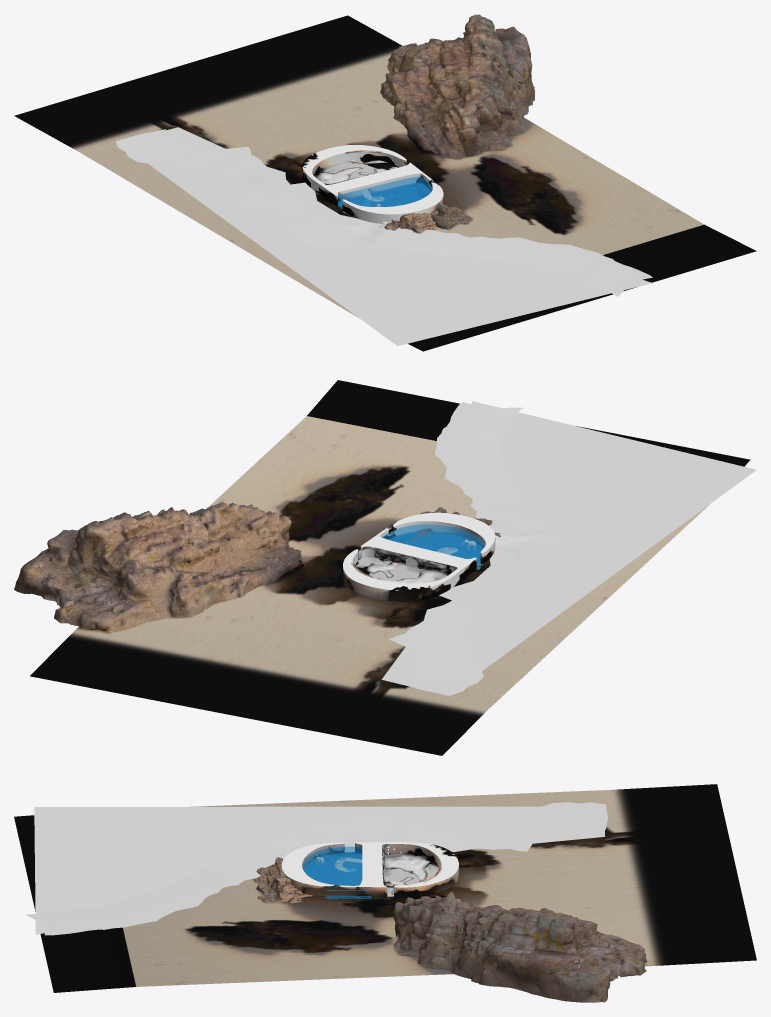
The picture shows the model from 3 angles, top to bottom: view 1: azimuth 30°, elevation 25°; view 2: azimuth 150°, elevation 25°; view 3: azimuth 270°, elevation 25°; orthographic projection. The views are drawn at different scales.
Visible parts, largest first — view 1: sand, water-scene-ext-tile, Aset_nature_rock_L_vfgkajyga_LOD0, Plane.003, logo, water, water.001, mousse, Aset_nature_rock_L_vfgkajyga_LOD011, Aset_nature_rock_L_vfgkajyga_LOD010, ground_mousse; view 2: sand, water-scene-ext-tile, Aset_nature_rock_L_vfgkajyga_LOD0, Plane.003, logo, water, mousse, water.001, ground_mousse; view 3: sand, water-scene-ext-tile, Aset_nature_rock_L_vfgkajyga_LOD0, Plane.003, logo, water, water.001, mousse, Aset_nature_rock_L_vfgkajyga_LOD010, ground_mousse, Aset_nature_rock_L_vfgkajyga_LOD011.
Part boxes in pixels (left/top/right/bottom): sand: left=14, top=15, right=756, bottom=351; water-scene-ext-tile: left=148, top=127, right=652, bottom=345; Aset_nature_rock_L_vfgkajyga_LOD0: left=380, top=14, right=534, bottom=159; Plane.003: left=115, top=129, right=652, bottom=296; logo: left=302, top=145, right=443, bottom=224; water: left=338, top=176, right=440, bottom=206; water.001: left=338, top=182, right=430, bottom=206; mousse: left=314, top=151, right=406, bottom=184; Aset_nature_rock_L_vfgkajyga_LOD011: left=384, top=211, right=437, bottom=233; Aset_nature_rock_L_vfgkajyga_LOD010: left=415, top=198, right=472, bottom=229; ground_mousse: left=316, top=160, right=397, bottom=179; sand: left=30, top=380, right=750, bottom=755; water-scene-ext-tile: left=381, top=401, right=756, bottom=695; Aset_nature_rock_L_vfgkajyga_LOD0: left=14, top=502, right=303, bottom=632; Plane.003: left=389, top=402, right=579, bottom=695; logo: left=343, top=512, right=495, bottom=601; water: left=382, top=524, right=485, bottom=558; mousse: left=351, top=546, right=455, bottom=583; water.001: left=389, top=531, right=482, bottom=564; ground_mousse: left=355, top=557, right=447, bottom=580; sand: left=14, top=784, right=756, bottom=992; water-scene-ext-tile: left=34, top=806, right=604, bottom=934; Aset_nature_rock_L_vfgkajyga_LOD0: left=393, top=892, right=647, bottom=1002; Plane.003: left=25, top=802, right=607, bottom=935; logo: left=281, top=842, right=458, bottom=897; water: left=302, top=846, right=370, bottom=890; water.001: left=303, top=852, right=371, bottom=896; mousse: left=382, top=844, right=439, bottom=894; Aset_nature_rock_L_vfgkajyga_LOD010: left=256, top=876, right=313, bottom=903; ground_mousse: left=382, top=854, right=439, bottom=896; Aset_nature_rock_L_vfgkajyga_LOD011: left=253, top=857, right=282, bottom=883.
Size of what is drawn, in the model's own units: 17.3 by 2.52 by 24.58.
11 materials, 6 textured.
